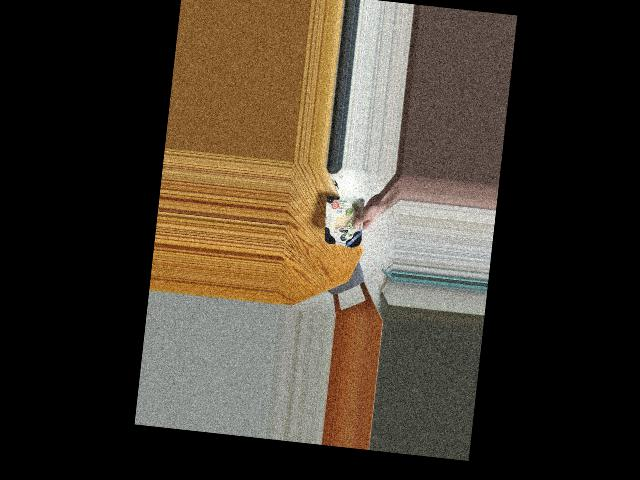cheese: (321, 184, 368, 259)
